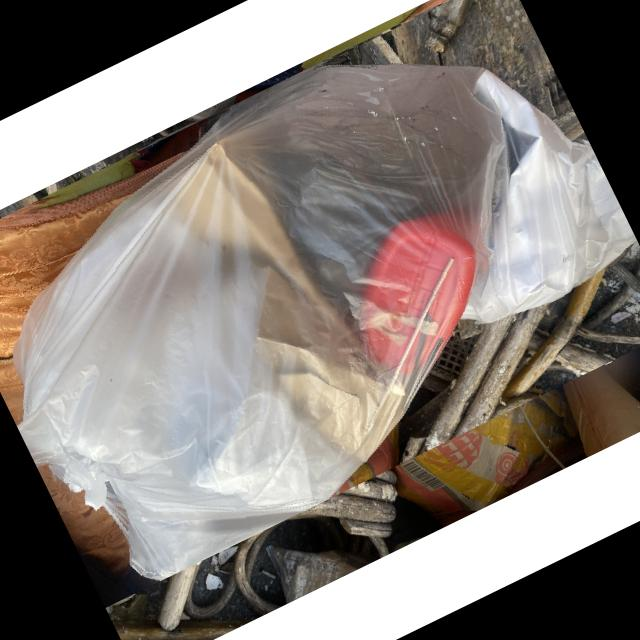other_trashbag: (13, 61, 634, 579)
